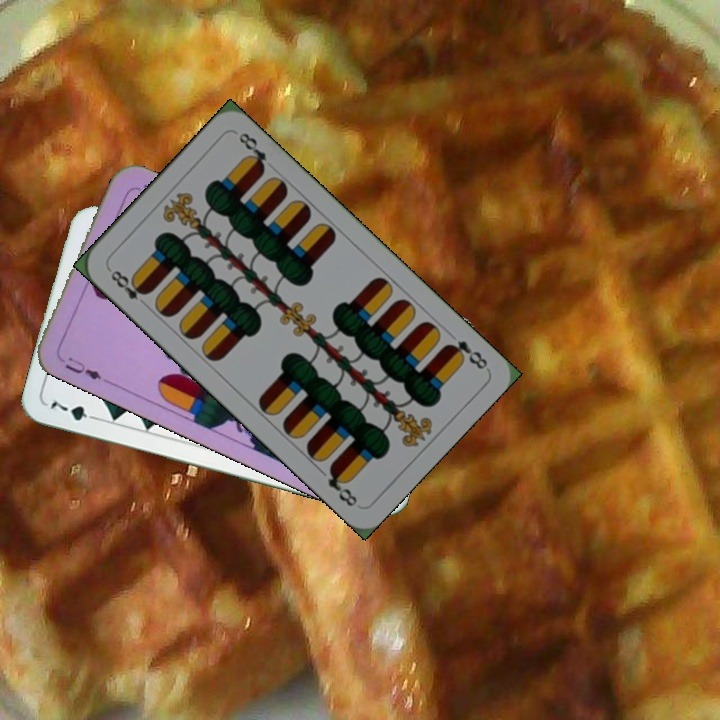E8: (104, 264, 152, 310), (441, 336, 490, 372)
EU: (55, 352, 105, 383)
G7: (46, 397, 103, 423)
